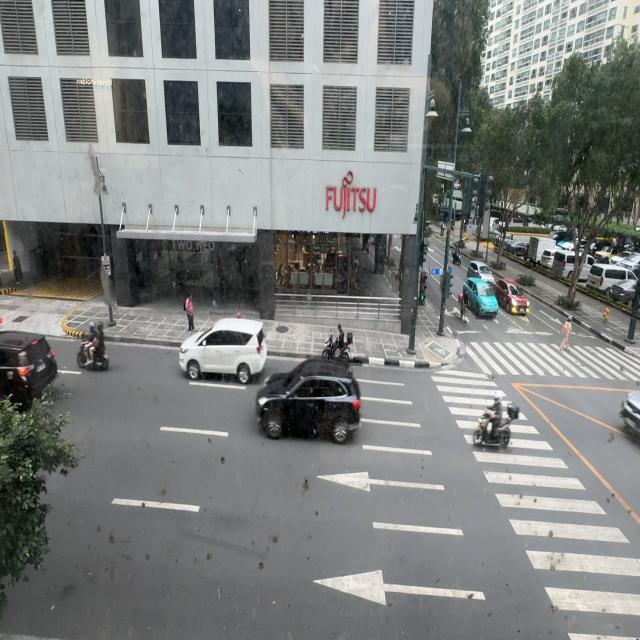crossing: (558, 318, 572, 352)
pedestrain: (184, 293, 194, 333), (12, 250, 23, 282)
